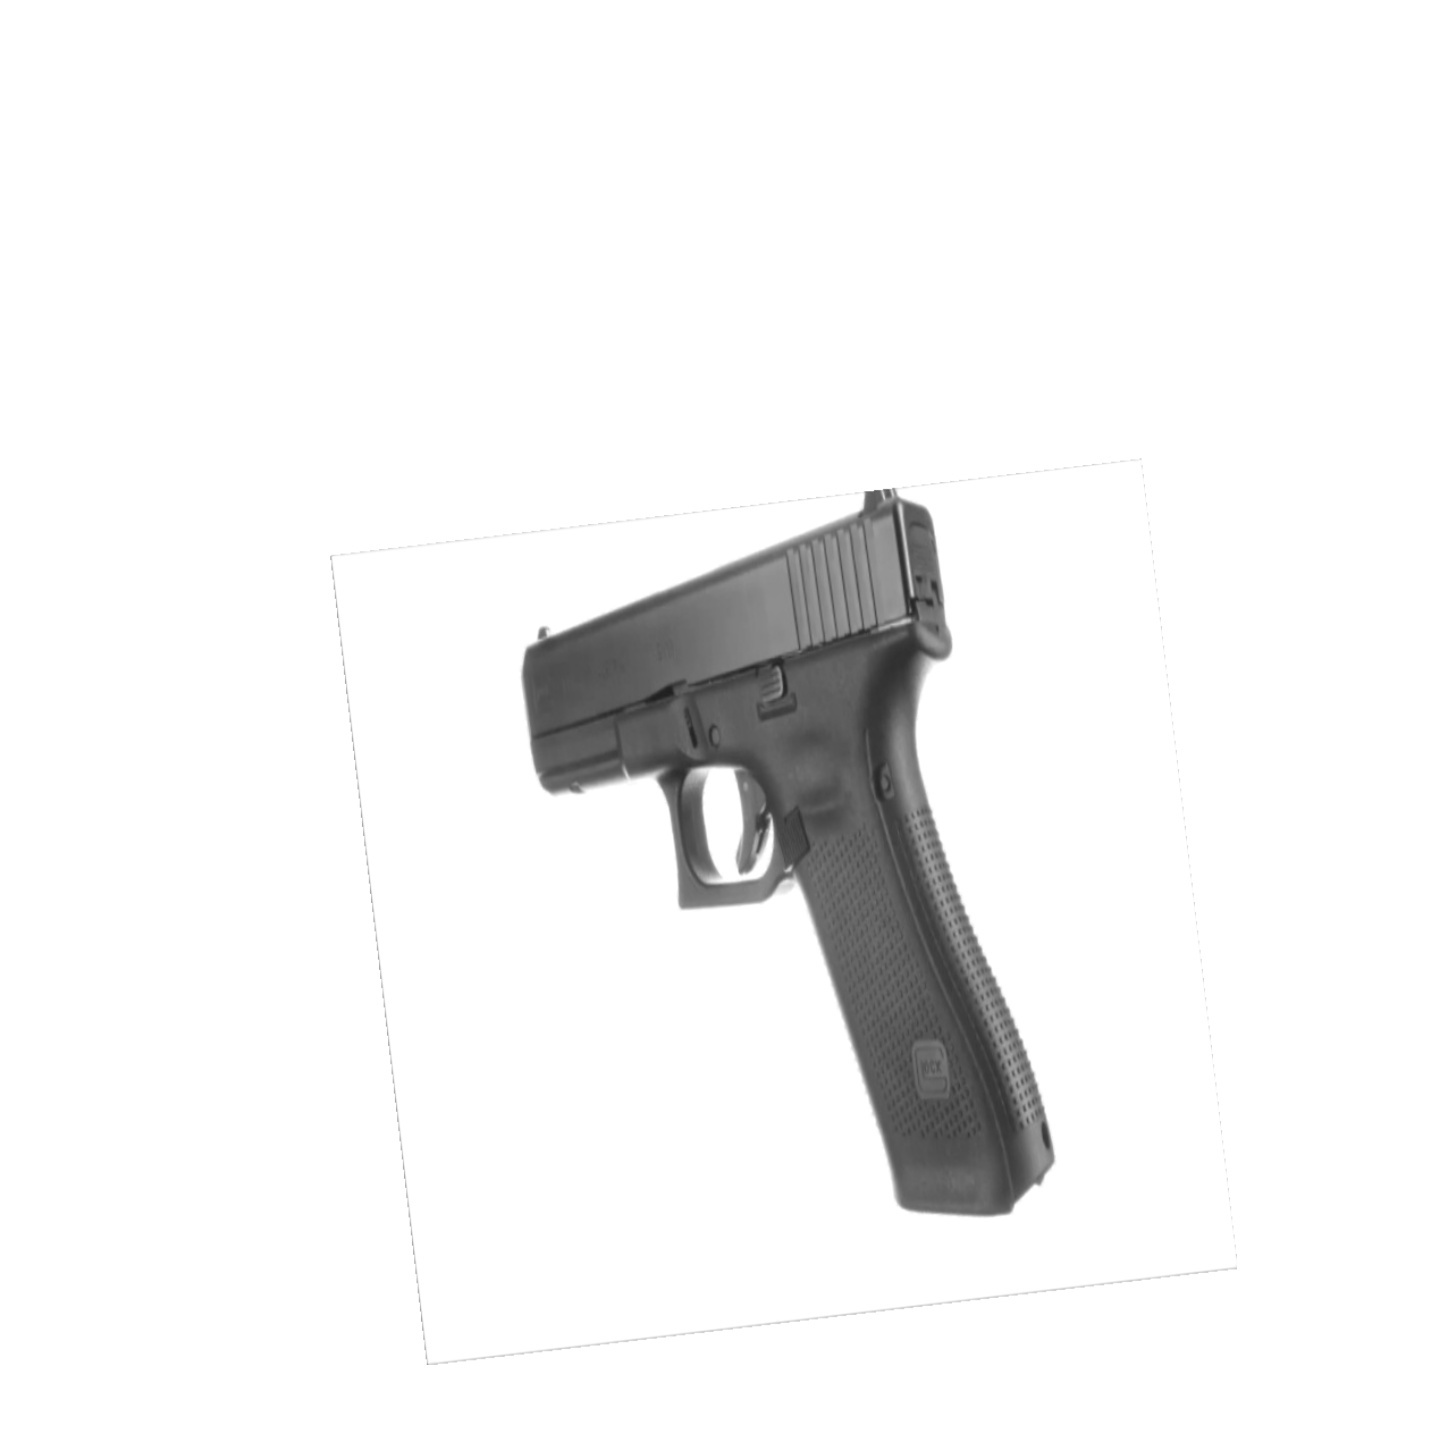gun: (510, 482, 1063, 1223)
